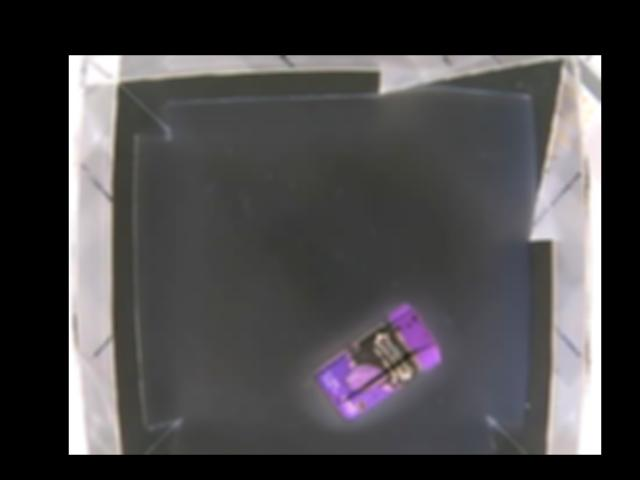Bottle: (310, 302, 442, 423)
